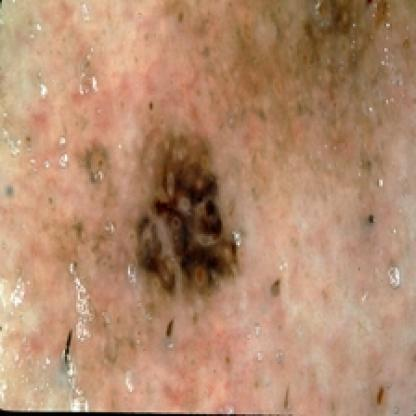Skin_Cancer-Malignant: (129, 124, 246, 314)
